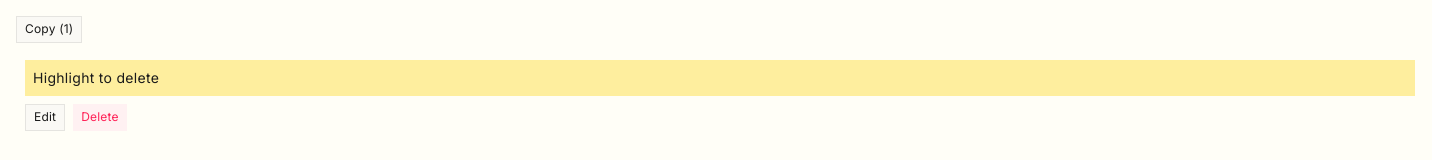
Test: HighlightsPanel › Delete Functionality › does not delete if confirmation is not clicked
What coordinates should you click on to do the following:
click the button "Delete"
I would click on:
 (100, 117)
Its box is x1=73 y1=104 x2=127 y2=131.
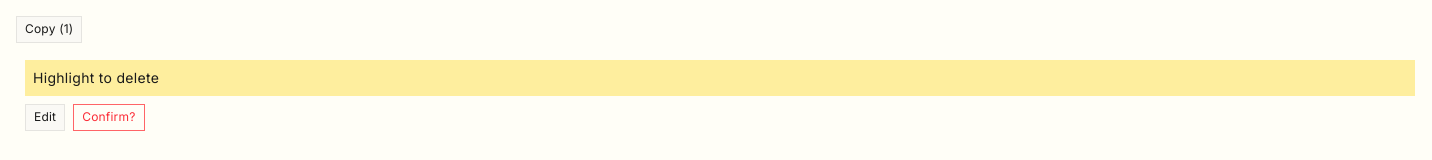
Expected: the button "Confirm?" is shown, x1=73 y1=104 x2=145 y2=131
